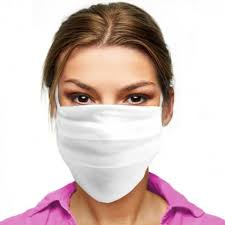cloth_mask: (51, 105, 167, 207)
